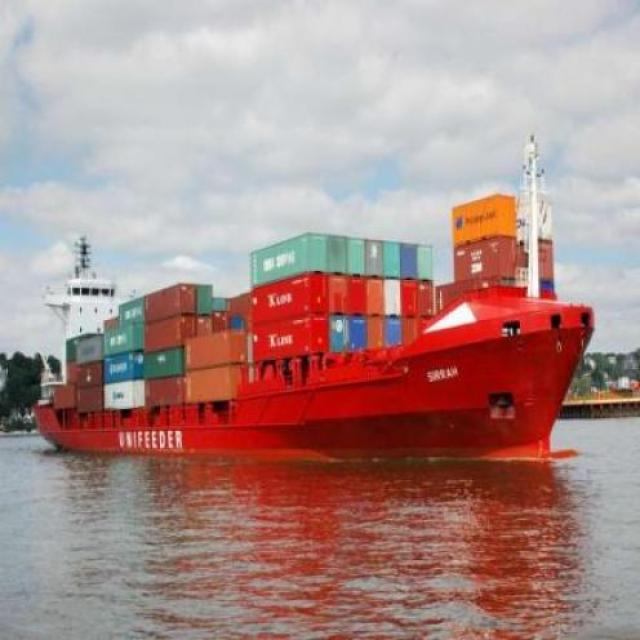boat: (17, 246, 600, 457)
